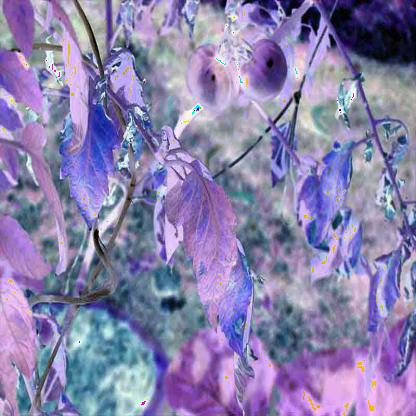Tomato mold leaf: (174, 170, 259, 374), (48, 94, 123, 242), (309, 141, 360, 240)
